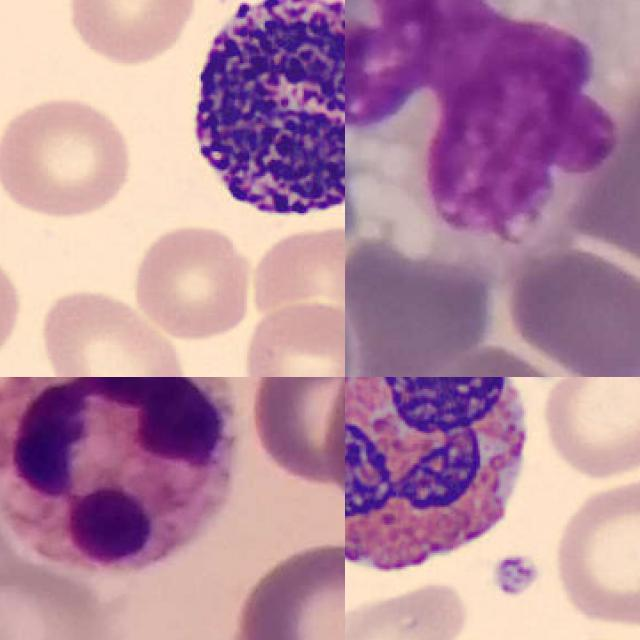Basophil: (169, 0, 345, 241)
Eosinophil: (345, 377, 538, 584)
Monocyte: (345, 0, 623, 255)
Neutrophil: (0, 377, 236, 576)
Platelets: (488, 548, 542, 601)
RBC: (0, 91, 137, 221), (126, 220, 260, 343), (34, 283, 194, 377), (549, 475, 640, 632), (536, 377, 640, 482), (62, 0, 200, 68), (238, 299, 345, 377), (345, 577, 469, 640)
